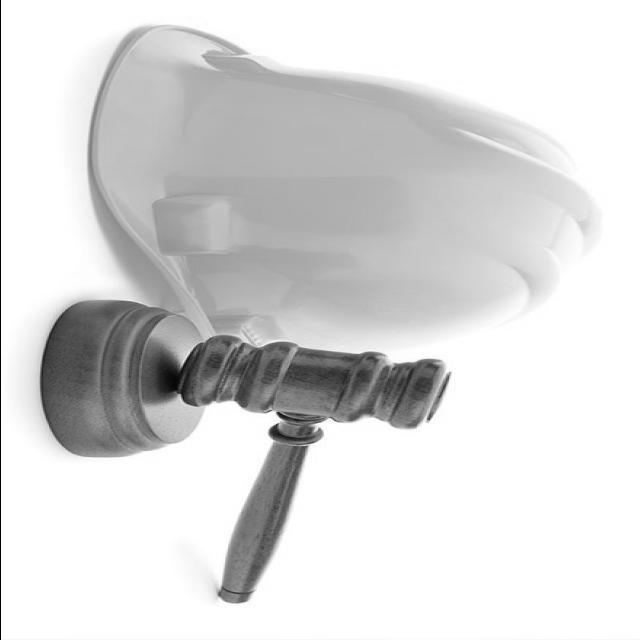safety_helmet: (84, 24, 602, 358)
